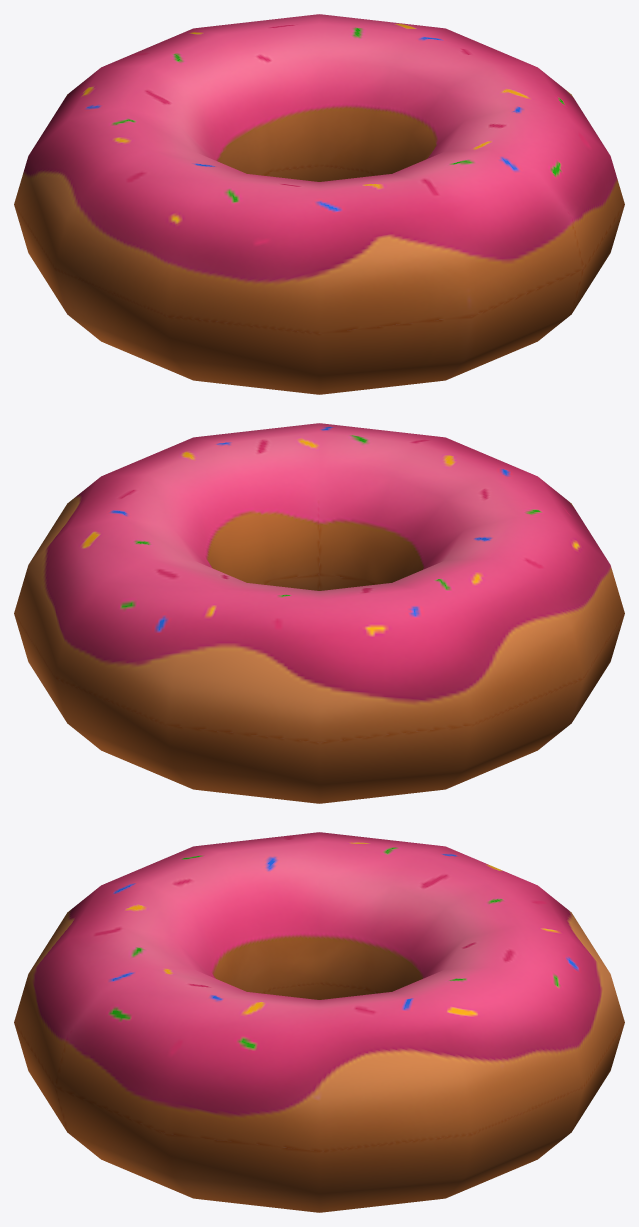
Rendered from Mdl_Donut.fbx.
The picture shows the model from 3 angles, top to bottom: view 1: azimuth 30°, elevation 25°; view 2: azimuth 150°, elevation 25°; view 3: azimuth 270°, elevation 25°; orthographic projection.
Visible parts, largest first — view 1: Mesh_Donut; view 2: Mesh_Donut; view 3: Mesh_Donut.
Part boxes in pixels (x1,y1,x2,y2): Mesh_Donut: (14,14,624,394); Mesh_Donut: (14,423,624,803); Mesh_Donut: (14,832,624,1212).
Bounding box in the file's own units: 311 × 109 × 311.
